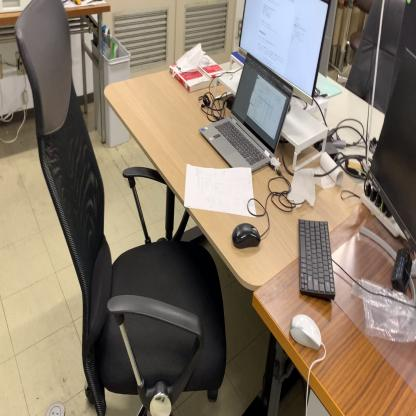chair: (15, 0, 226, 416)
